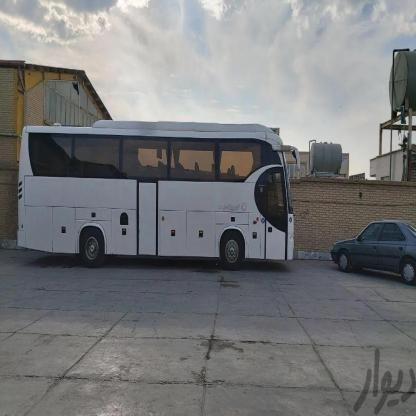Bus: (13, 112, 300, 278)
Car: (320, 210, 416, 289)
